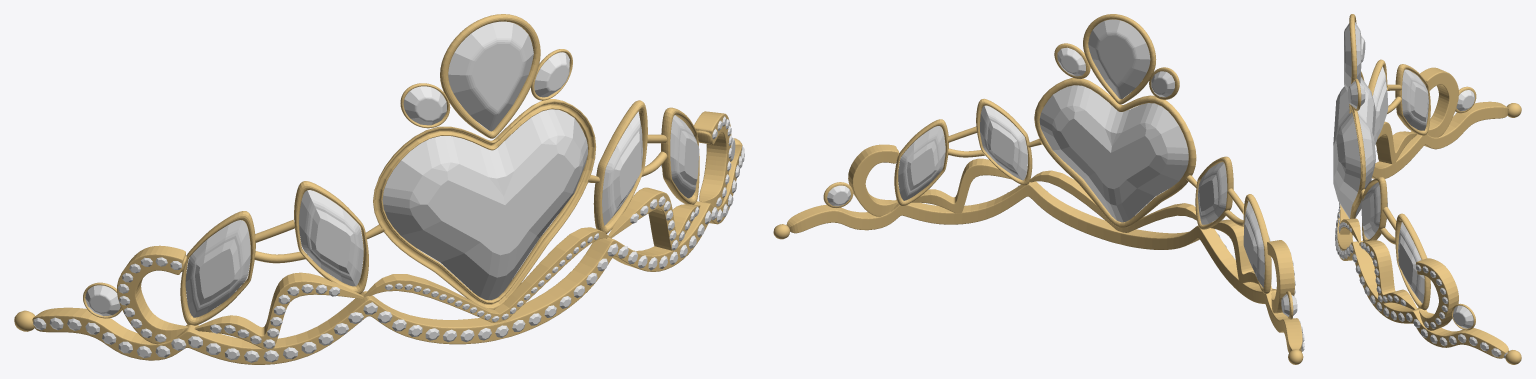
Rendered from crownallcolorfinfinfinfin.fbx.
The picture shows the model from 3 angles, left to right: view 1: azimuth 30°, elevation 25°; view 2: azimuth 150°, elevation 25°; view 3: azimuth 270°, elevation 25°; orthographic projection. The views are drawn at different scales.
Parts seen in each view (by area): view 1: Vert.004; view 2: Vert.004; view 3: Vert.004.
Part boxes in pixels (<box>): Vert.004: <box>14,14,744,364</box>; Vert.004: <box>773,14,1304,364</box>; Vert.004: <box>1333,14,1521,364</box>.
Size of the model in its own units: 1061 by 441 by 334.
